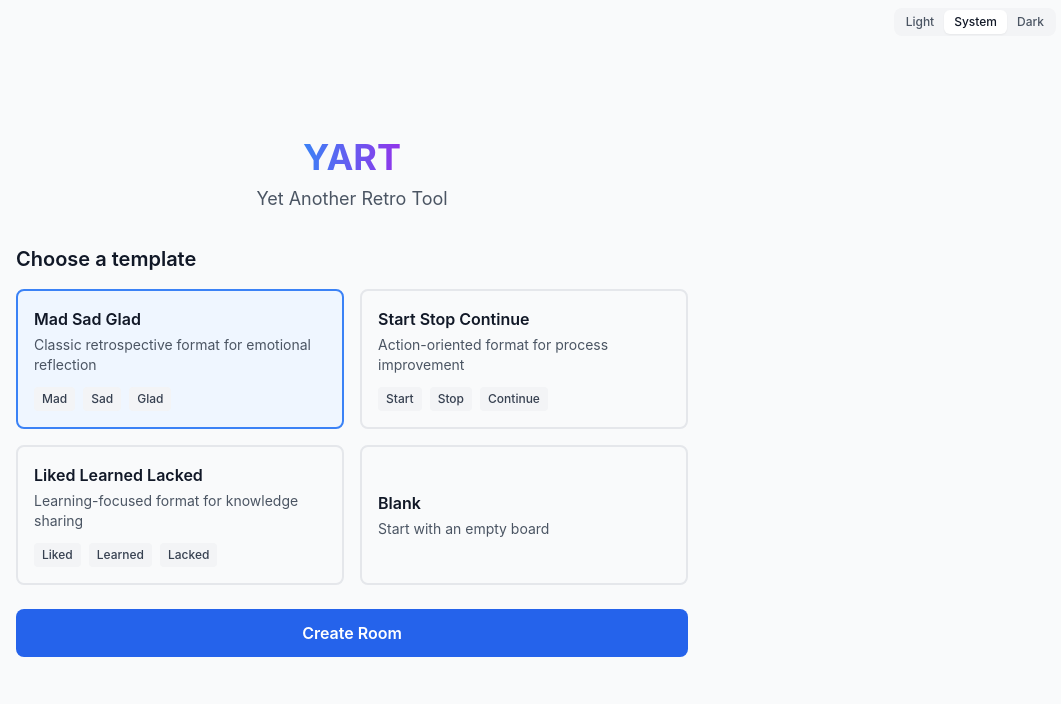
Test case: Landing › shows error message on failure
Click the button with test id "create-room-btn": click(352, 633) [16,609,688,657]
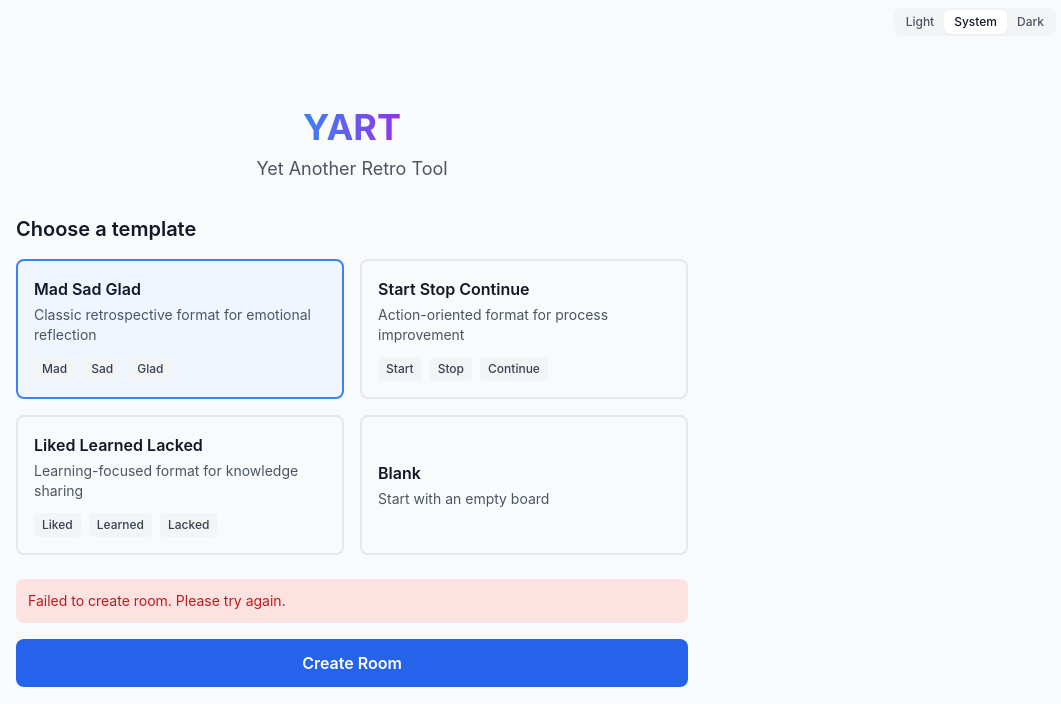
Expected: the text "Failed to create room. Please try again." is shown, [16,579,688,623]
